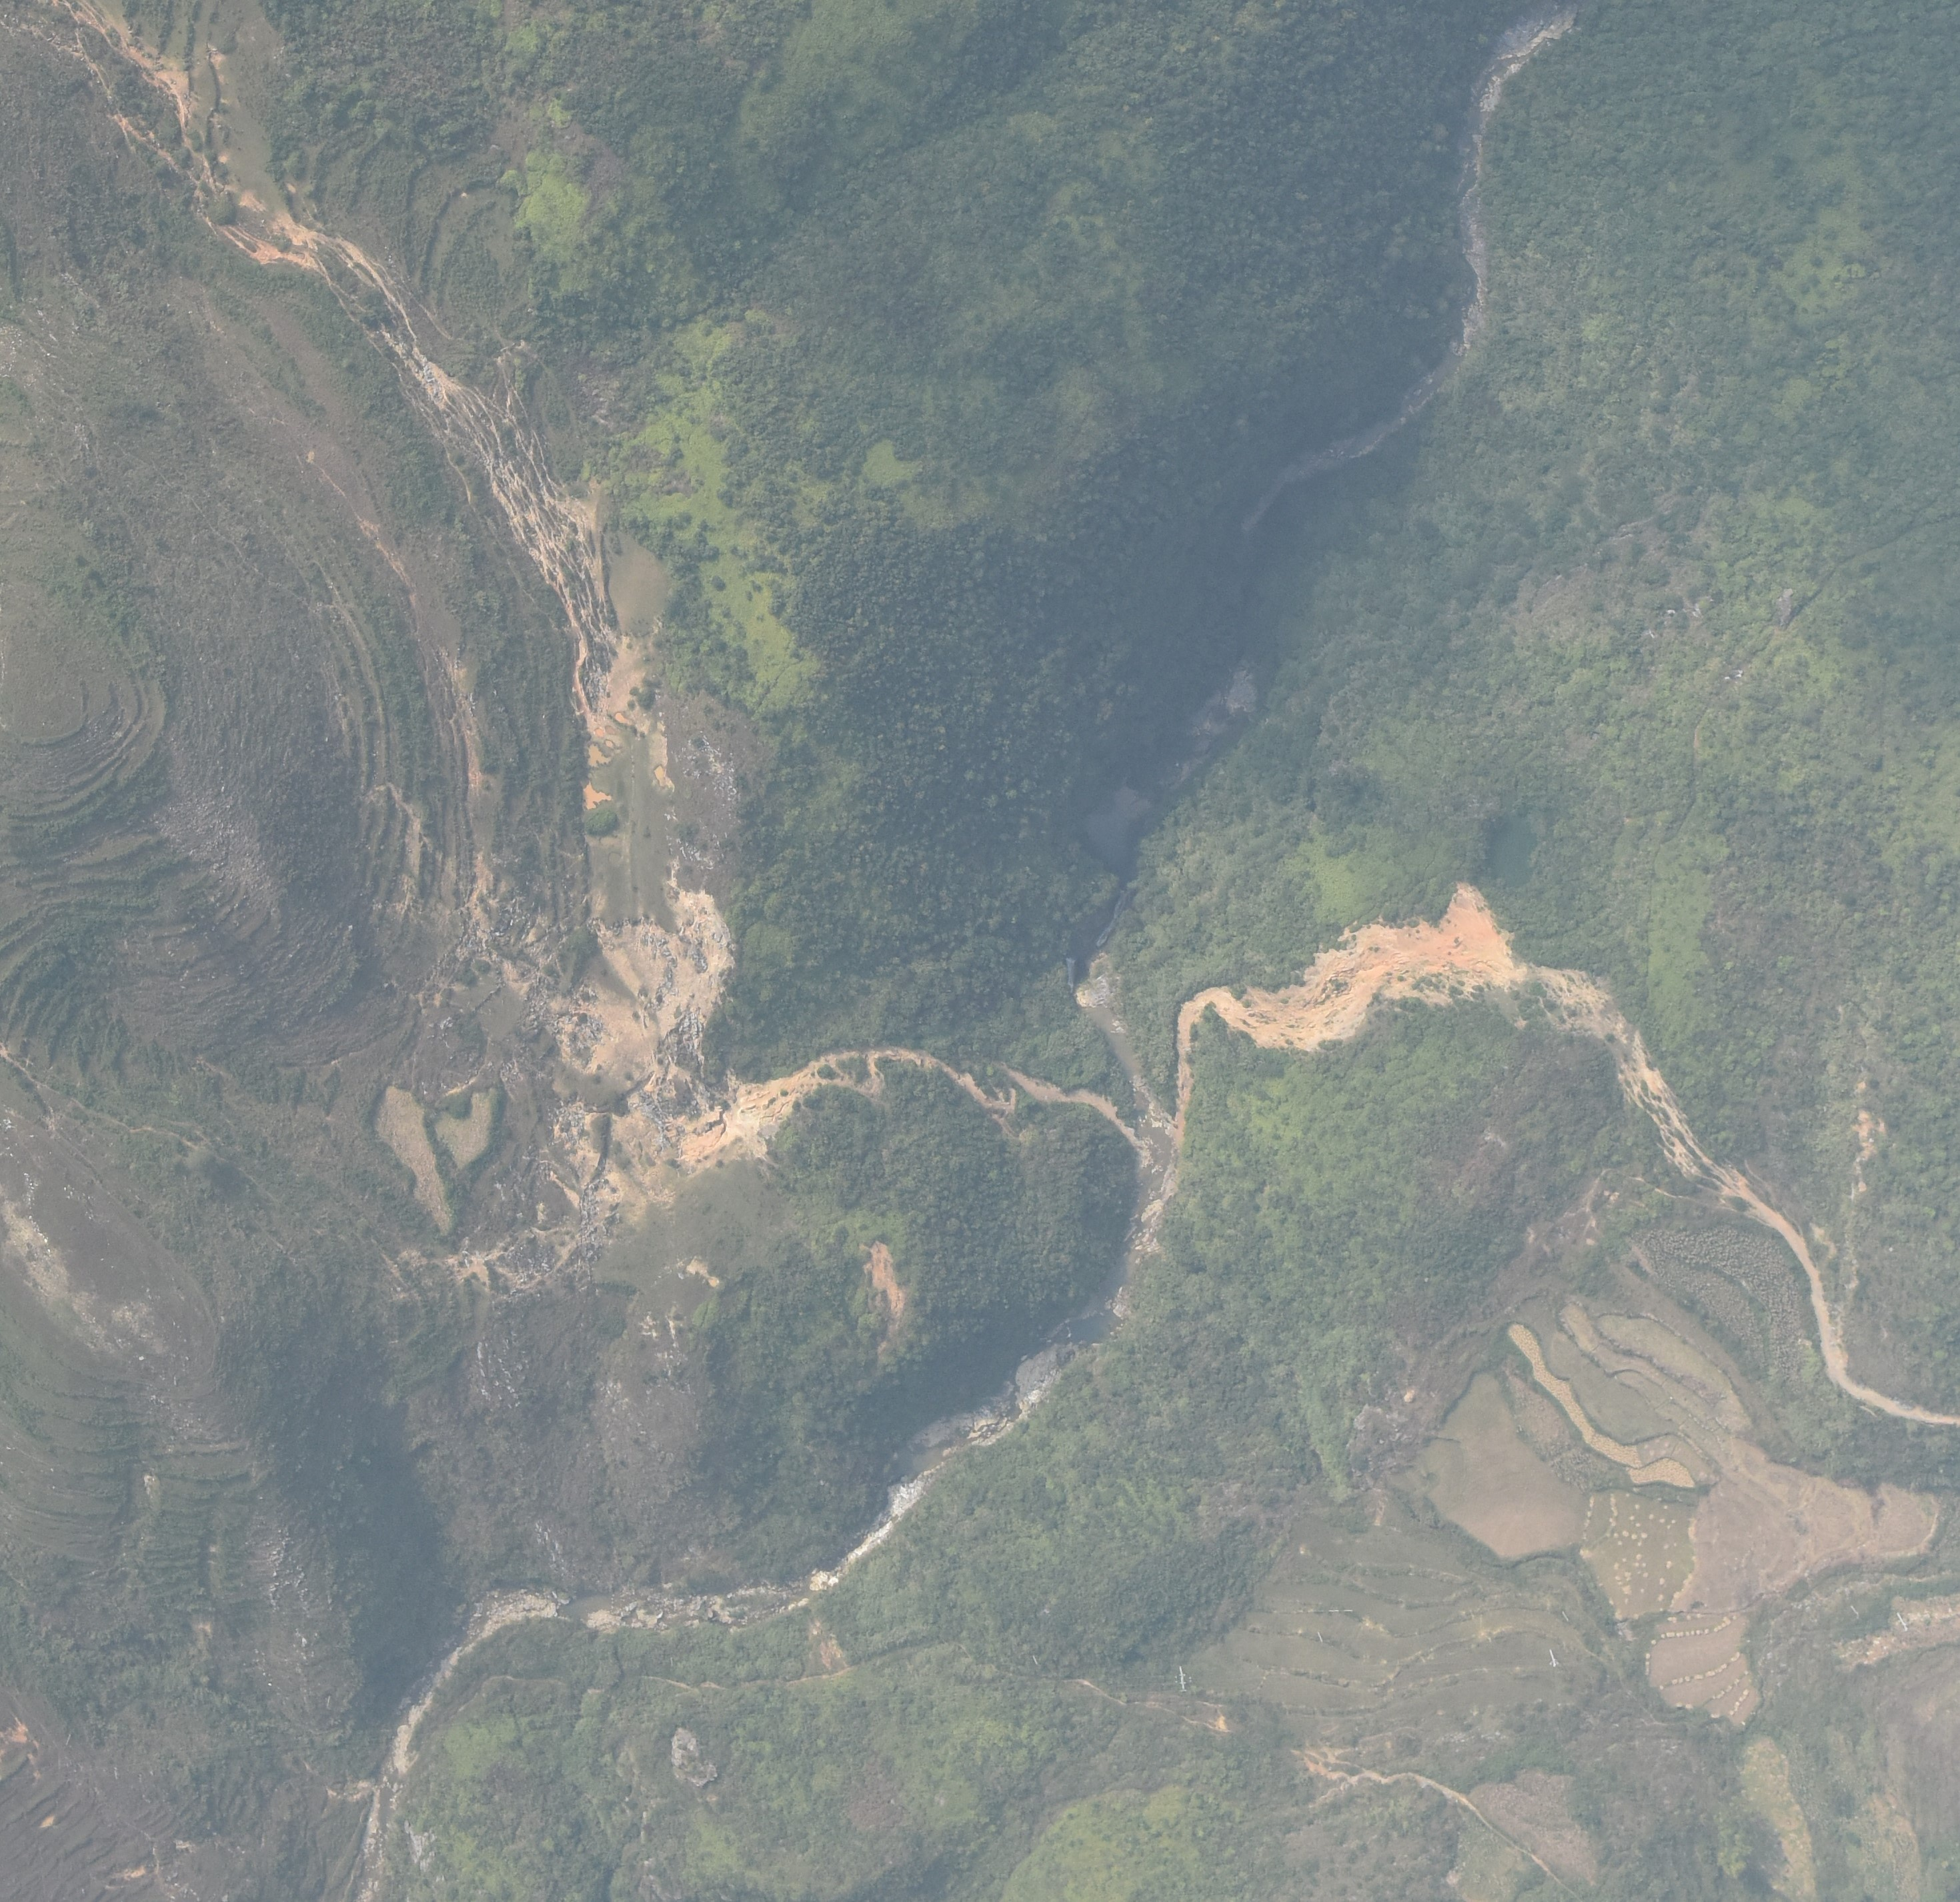cable-tower: (1895, 1612, 1907, 1634), (1178, 1666, 1186, 1692), (1547, 1650, 1557, 1666), (1851, 1606, 1860, 1619), (1316, 1633, 1325, 1645), (1561, 1610, 1568, 1622), (1031, 1654, 1036, 1664)
landslide: (546, 884, 821, 1227), (1176, 880, 1519, 1050)
